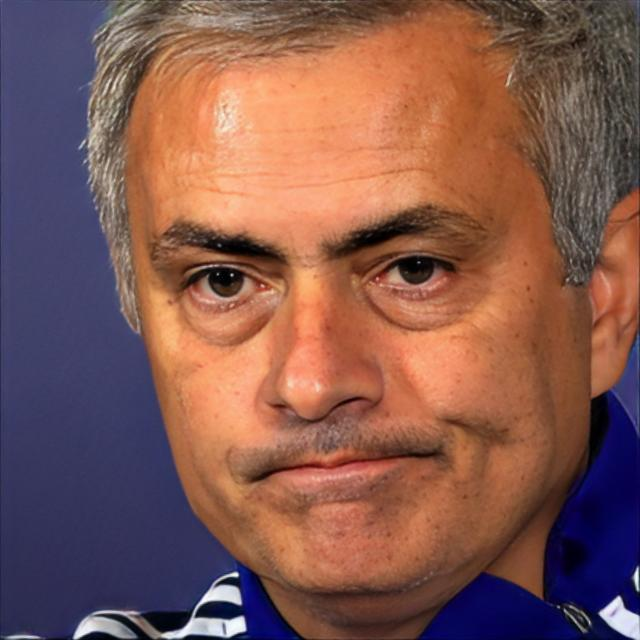content: (122, 0, 596, 593)
